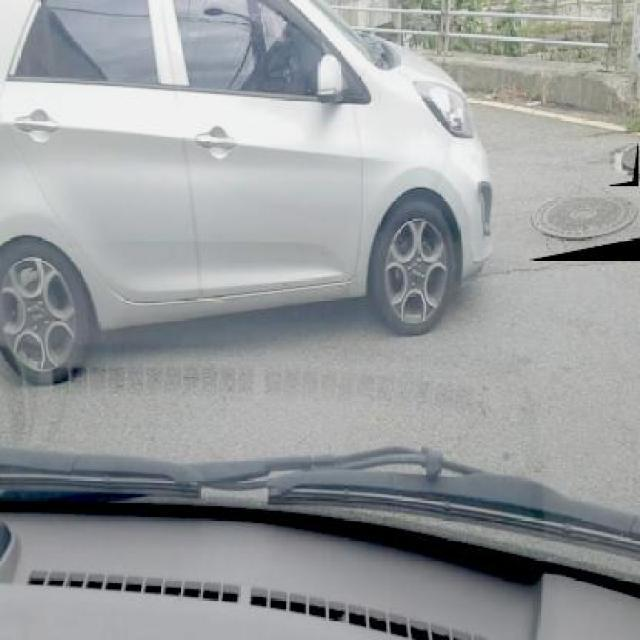Manhole: (527, 197, 640, 260), (610, 143, 638, 186)
